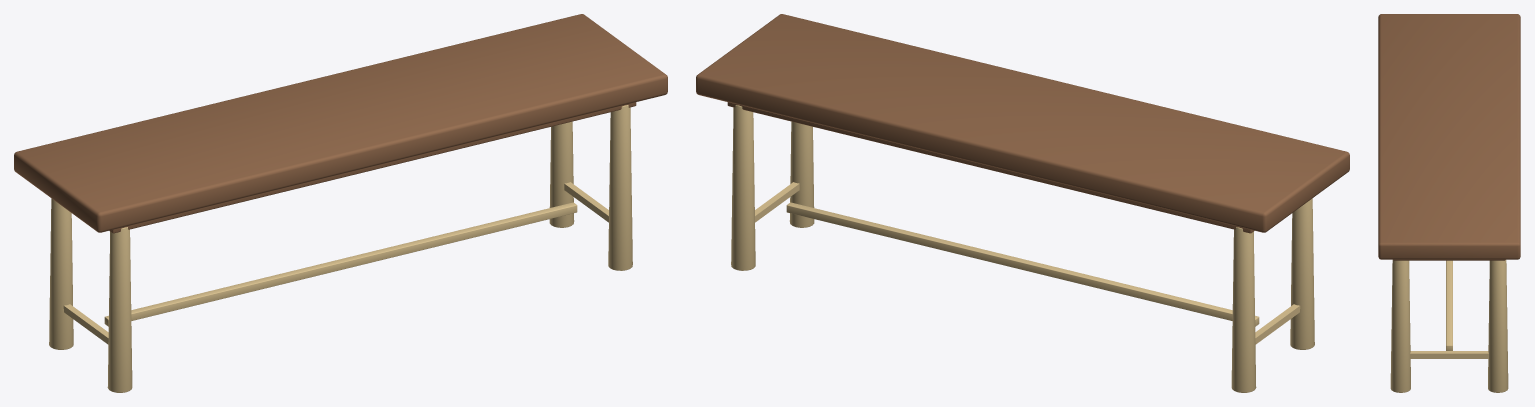
File: bench.glb
3 renders of one model, left to right at view 1: azimuth 30°, elevation 25°; view 2: azimuth 150°, elevation 25°; view 3: azimuth 270°, elevation 25°, orthographic. The views are drawn at different scales.
Parts seen in each view (by area): view 1: Seat, RailX, Leg_0.64_-0.13, Leg_-0.64_-0.13, Leg_-0.64_0.13, Apron, Leg_0.64_0.13, RailEnd_-0.64, RailEnd_0.64; view 2: Seat, RailX, Leg_0.64_0.13, Leg_-0.64_0.13, Leg_-0.64_-0.13, Apron, Leg_0.64_-0.13, RailEnd_-0.64, RailEnd_0.64; view 3: Seat, Leg_0.64_0.13, Leg_0.64_-0.13, RailX, RailEnd_0.64, Apron.
Part boxes in pixels (bbox=[...]): Seat: bbox=[14, 14, 667, 232]; RailX: bbox=[104, 202, 577, 326]; Leg_0.64_-0.13: bbox=[608, 105, 632, 270]; Leg_-0.64_-0.13: bbox=[107, 227, 132, 392]; Leg_-0.64_0.13: bbox=[49, 198, 73, 349]; Apron: bbox=[109, 102, 636, 233]; Leg_0.64_0.13: bbox=[549, 121, 574, 227]; RailEnd_-0.64: bbox=[63, 304, 108, 344]; RailEnd_0.64: bbox=[564, 182, 608, 222]; Seat: bbox=[696, 14, 1349, 232]; RailX: bbox=[786, 202, 1259, 326]; Leg_0.64_0.13: bbox=[731, 105, 755, 270]; Leg_-0.64_0.13: bbox=[1231, 227, 1256, 392]; Leg_-0.64_-0.13: bbox=[1290, 198, 1314, 349]; Apron: bbox=[727, 102, 1254, 233]; Leg_0.64_-0.13: bbox=[789, 121, 814, 227]; RailEnd_-0.64: bbox=[1255, 304, 1300, 344]; RailEnd_0.64: bbox=[755, 182, 799, 222]; Seat: bbox=[1378, 14, 1520, 259]; Leg_0.64_0.13: bbox=[1488, 260, 1508, 392]; Leg_0.64_-0.13: bbox=[1390, 260, 1410, 392]; RailX: bbox=[1446, 260, 1452, 350]; RailEnd_0.64: bbox=[1410, 351, 1488, 358]; Apron: bbox=[1393, 259, 1505, 260].
Bounding box in the file's own units: 1.46 × 0.47 × 0.38.
